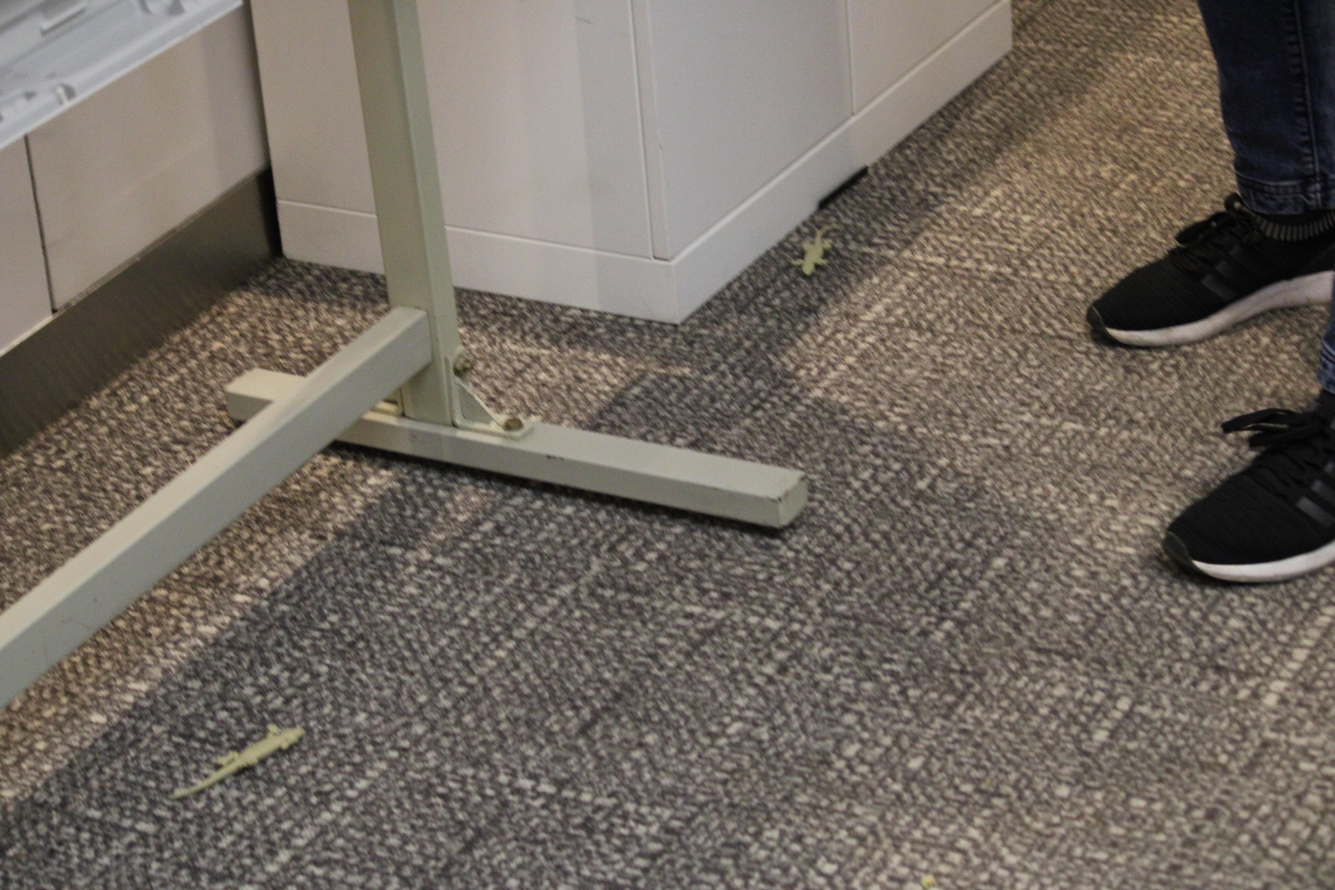lizard: (183, 710, 314, 806), (797, 212, 831, 285)
